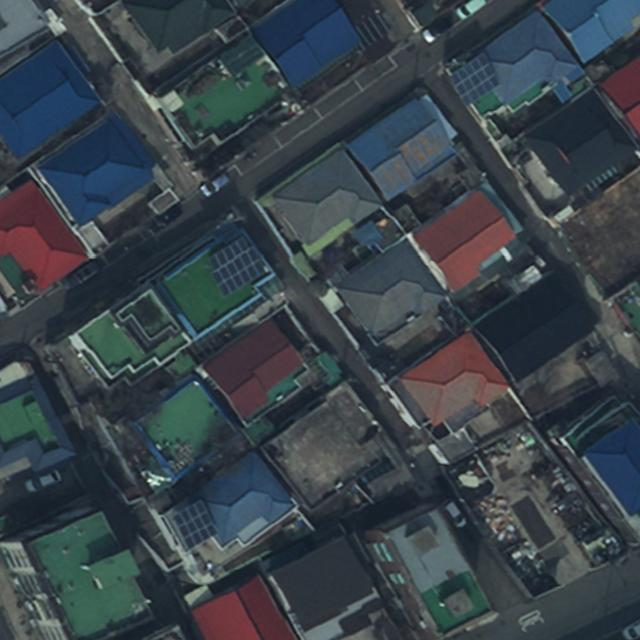panel: (206, 234, 265, 298), (449, 50, 500, 106), (171, 498, 217, 550)
